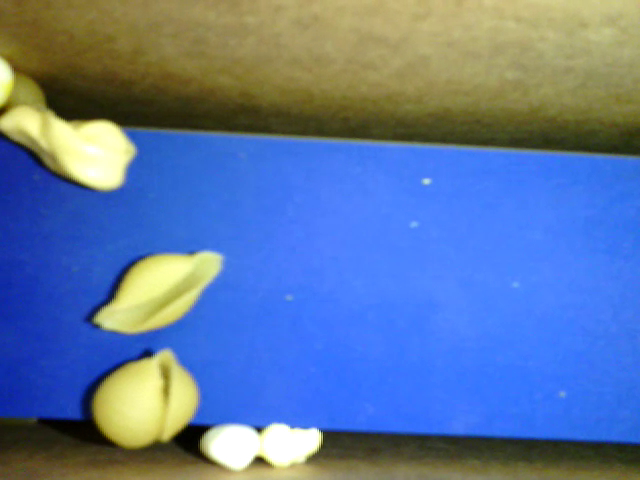shell: (85, 248, 227, 337), (91, 352, 165, 450), (161, 345, 201, 444)
tortellini: (5, 105, 137, 192)
